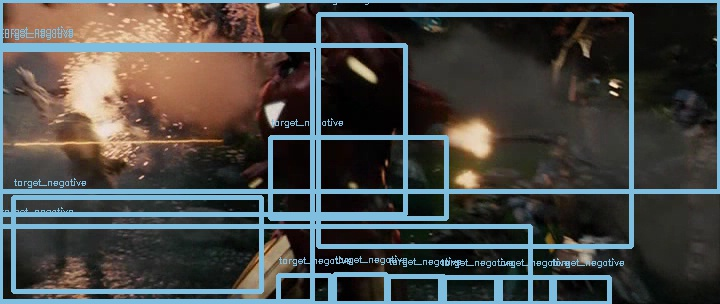person: (258, 1, 326, 54), (257, 1, 325, 54), (259, 1, 327, 54), (258, 0, 326, 53), (258, 2, 326, 55)
target_negative: (160, 74, 644, 242), (388, 189, 686, 269), (478, 123, 533, 279), (353, 285, 579, 295), (343, 299, 601, 302)
